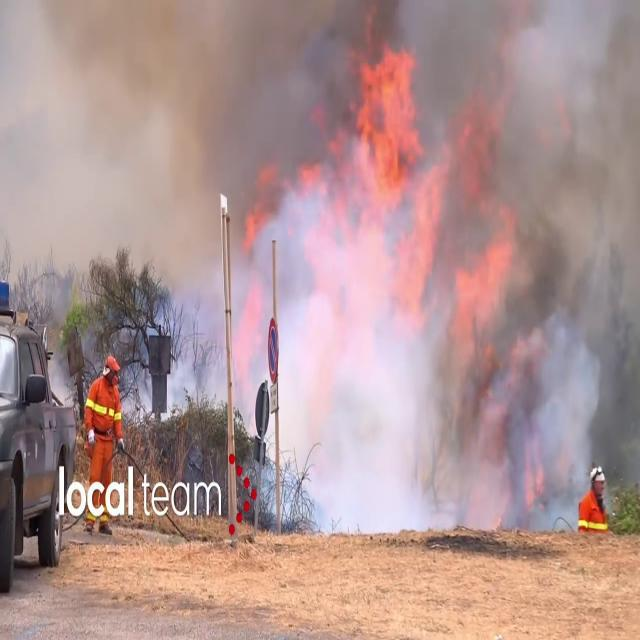Fire: (338, 17, 440, 319), (575, 486, 611, 533)
Smoke: (139, 1, 640, 529)
